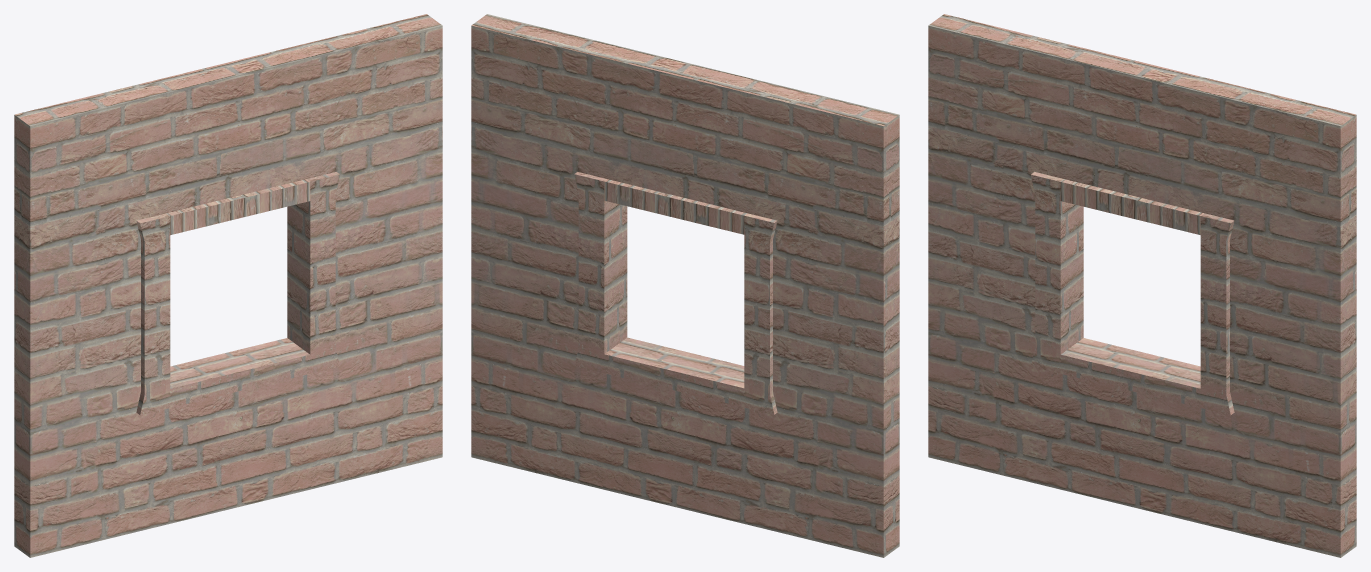
File: WallWindowSmall.fbx
The picture shows the model from 3 angles, left to right: view 1: azimuth 30°, elevation 25°; view 2: azimuth 150°, elevation 25°; view 3: azimuth 330°, elevation 25°; orthographic projection.
Parts seen in each view (by area): view 1: WallWindowSmall; view 2: WallWindowSmall; view 3: WallWindowSmall.
Boxes of the visible parts, x1,y1,x2,y2 form: WallWindowSmall: [14, 14, 442, 557]; WallWindowSmall: [471, 14, 899, 557]; WallWindowSmall: [928, 14, 1356, 557].
Size of the model in its own units: 300 by 300 by 28.82.
Materials: 1 (1 with a texture image).
